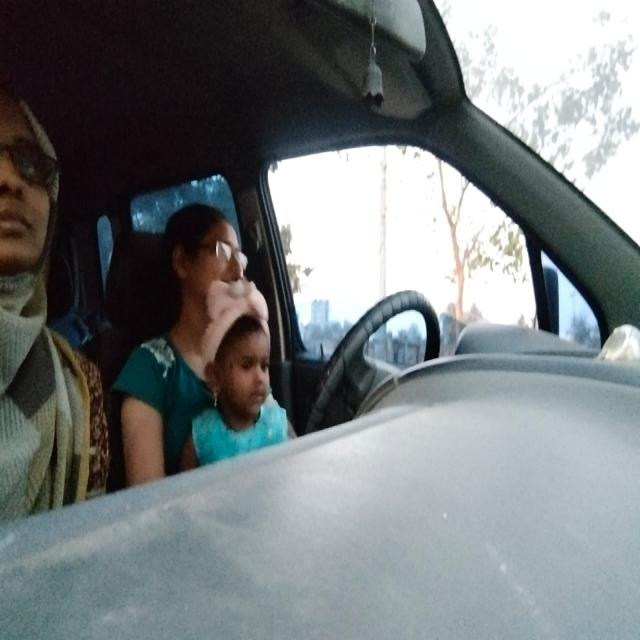child: (202, 274, 278, 434)
person: (0, 80, 69, 300), (162, 198, 264, 295)
